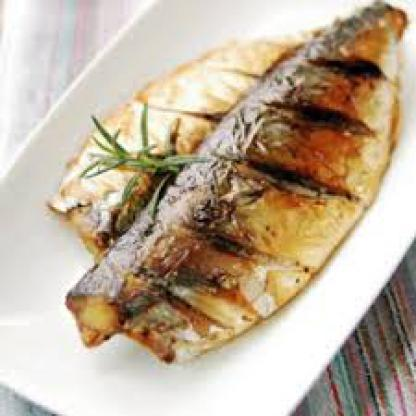grilled mackerel: (87, 26, 392, 338)
